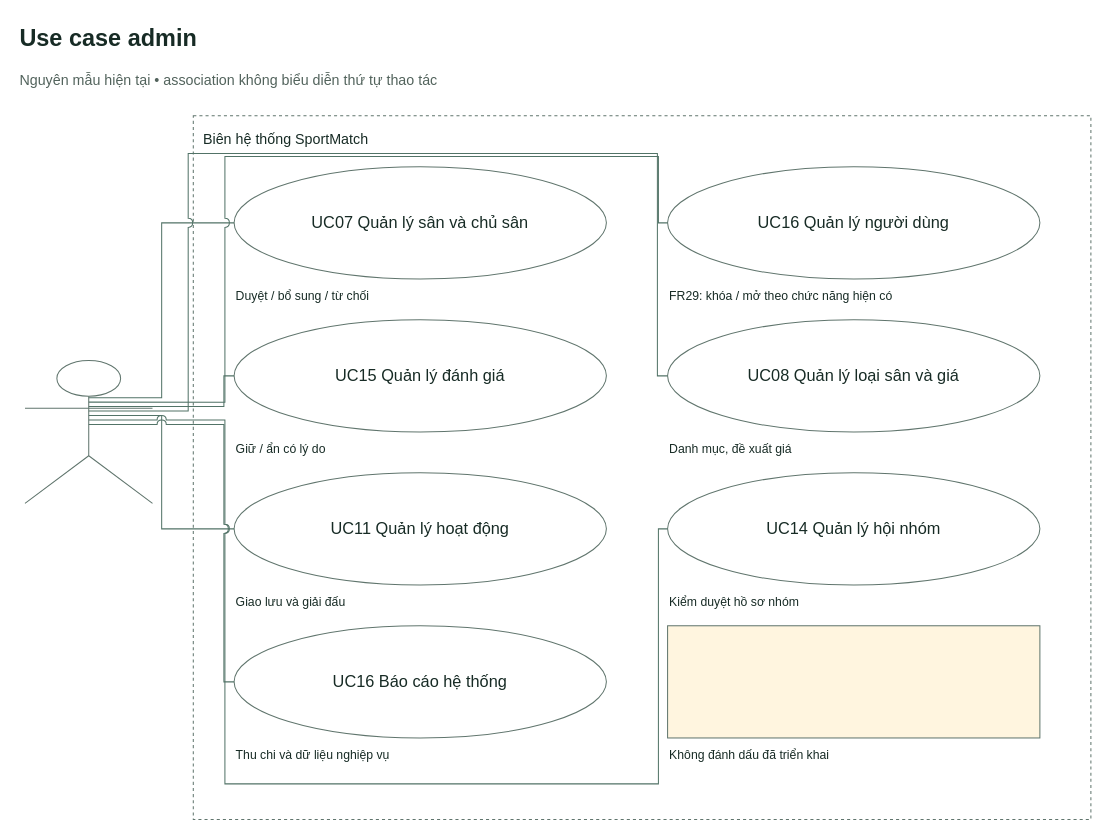
Some shapes in this 1120 by 837 pixel diagram are drawn without their labels. Each missing label, with the centre of its shape:
Admin: the point at 88,431
Chưa có ủy quyền admin con: the point at 853,681
